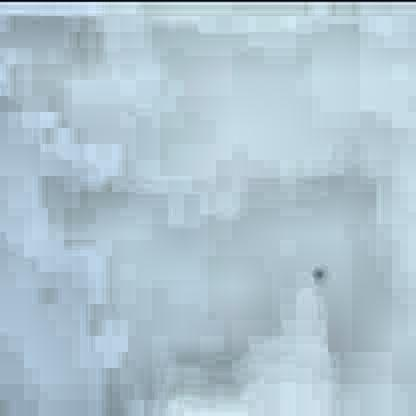golfball: (308, 264, 319, 275)
